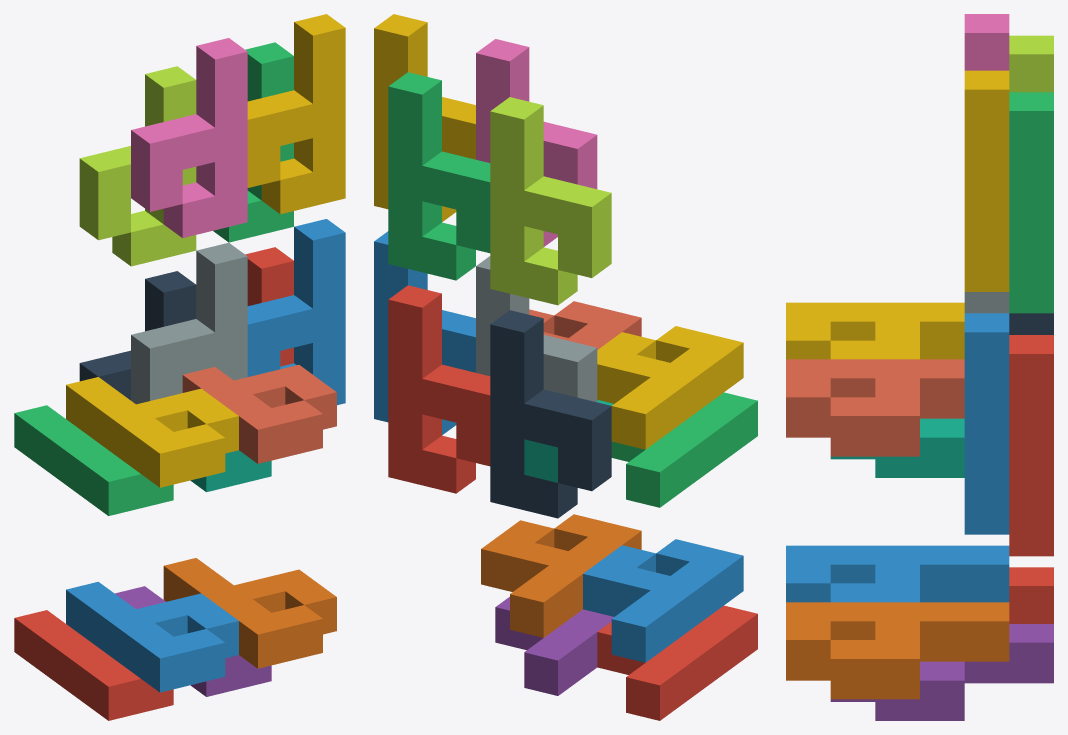
The model's file is tiling.obj.
3 renders of one model, left to right at view 1: azimuth 30°, elevation 25°; view 2: azimuth 150°, elevation 25°; view 3: azimuth 270°, elevation 25°, orthographic. The views are drawn at different scales.
Parts seen in each view (by area): view 1: copy_2_domain_4, copy_2_domain_8, copy_1_domain_4, copy_1_domain_2, copy_2_domain_6, copy_2_domain_2, copy_1_domain_6, copy_2_domain_3, copy_1_domain_8, copy_1_domain_3, copy_1_domain_1, copy_2_domain_7 (+4 smaller); view 2: copy_2_domain_3, copy_2_domain_1, copy_2_domain_7, copy_2_domain_5, copy_1_domain_2, copy_1_domain_4, copy_1_domain_6, copy_1_domain_1, copy_1_domain_3, copy_2_domain_4, copy_2_domain_8, copy_1_domain_5 (+4 smaller); view 3: copy_1_domain_6, copy_1_domain_8, copy_1_domain_2, copy_1_domain_4, copy_2_domain_6, copy_2_domain_8, copy_2_domain_5, copy_2_domain_7, copy_1_domain_5, copy_1_domain_7, copy_2_domain_4, copy_2_domain_3 (+3 smaller).
Part boxes in pixels (box(x1,y1,x2,y2)): copy_2_domain_4: box(131, 38, 247, 237); copy_2_domain_8: box(247, 14, 345, 214); copy_1_domain_4: box(66, 377, 238, 487); copy_1_domain_2: box(66, 581, 238, 692); copy_2_domain_6: box(247, 219, 345, 405); copy_2_domain_2: box(131, 242, 247, 404); copy_1_domain_6: box(163, 558, 336, 668); copy_2_domain_3: box(79, 66, 196, 266); copy_1_domain_8: box(182, 365, 336, 463); copy_1_domain_3: box(14, 405, 173, 515); copy_1_domain_1: box(14, 610, 173, 720); copy_2_domain_7: box(213, 42, 293, 242); copy_2_domain_3: box(490, 97, 611, 305); copy_2_domain_1: box(490, 310, 611, 518); copy_2_domain_7: box(388, 72, 490, 280); copy_2_domain_5: box(388, 285, 490, 493); copy_1_domain_2: box(583, 539, 743, 662); copy_1_domain_4: box(597, 326, 743, 449); copy_1_domain_6: box(481, 514, 641, 637); copy_1_domain_1: box(597, 605, 757, 720); copy_1_domain_3: box(611, 392, 757, 507); copy_2_domain_4: box(476, 39, 597, 246); copy_2_domain_8: box(374, 14, 475, 221); copy_1_domain_5: box(495, 597, 613, 695); copy_1_domain_6: box(786, 602, 1009, 699); copy_1_domain_8: box(786, 359, 964, 456); copy_1_domain_2: box(786, 545, 1009, 602); copy_1_domain_4: box(786, 302, 964, 359); copy_2_domain_6: box(964, 313, 1009, 534); copy_2_domain_8: box(964, 70, 1009, 291); copy_2_domain_5: box(1009, 335, 1053, 556); copy_2_domain_7: box(1009, 92, 1053, 313); copy_1_domain_5: box(830, 624, 1053, 720); copy_1_domain_7: box(830, 418, 964, 477); copy_2_domain_4: box(964, 14, 1009, 70); copy_2_domain_3: box(1009, 35, 1053, 92).
Size of the model in its own units: 9 by 17 by 6.
